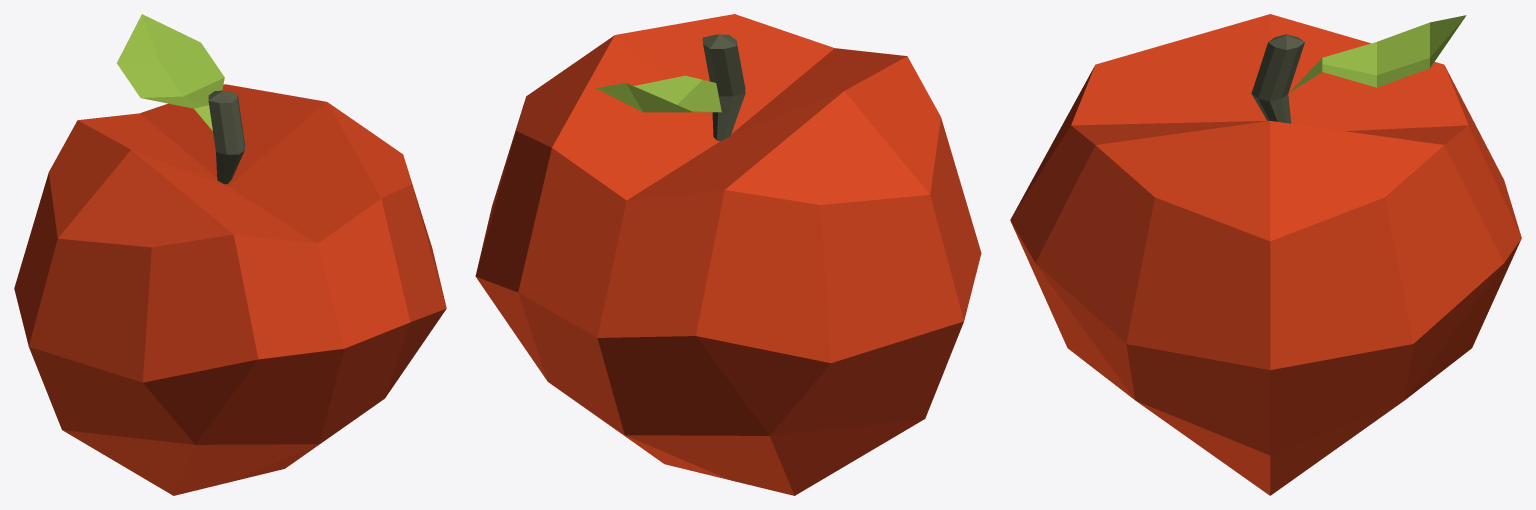
The model's file is apple.glb.
3 views of the same model, side by side, from view 1: azimuth 30°, elevation 25°; view 2: azimuth 150°, elevation 25°; view 3: azimuth 270°, elevation 25° (orthographic). The views are drawn at different scales.
Visible parts, largest first — view 1: Red Apple; view 2: Red Apple; view 3: Red Apple.
Boxes of the visible parts, x1,y1,x2,y2 form: Red Apple: (14,14,446,495); Red Apple: (475,14,981,495); Red Apple: (1010,14,1521,495).
Size of the model in its own units: 0.0819 by 0.0783 by 0.0805.
Materials: 1 (1 with a texture image).
